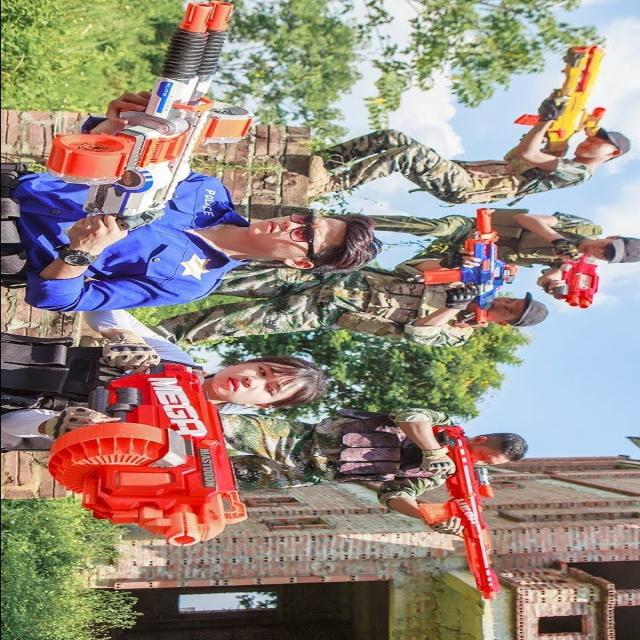Nerf gun: (42, 0, 262, 232), (43, 359, 256, 549), (403, 419, 511, 600), (411, 203, 522, 329), (513, 38, 612, 164), (543, 246, 604, 311)
